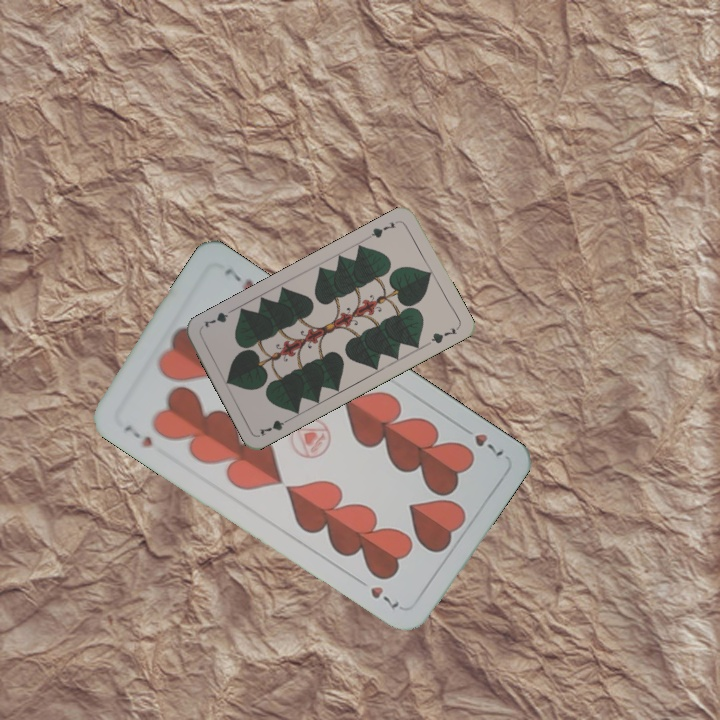G7: (255, 413, 294, 438), (364, 216, 402, 241)
H7: (456, 421, 507, 461), (120, 421, 156, 451)
